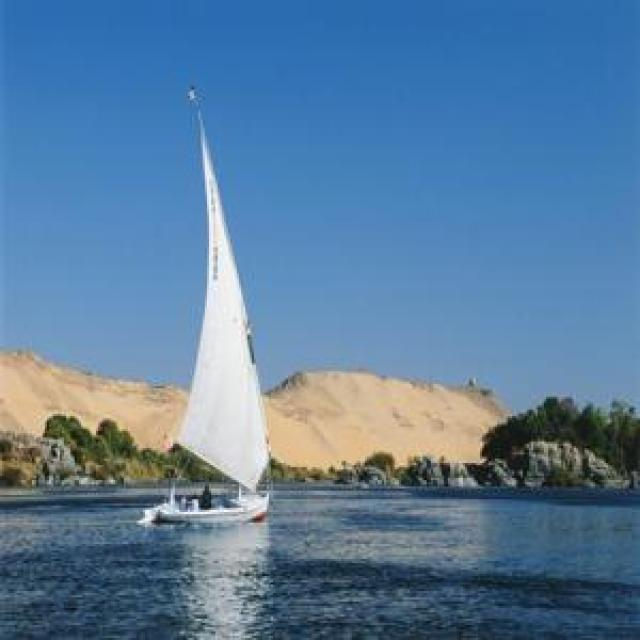sailboat: (138, 84, 281, 523)
